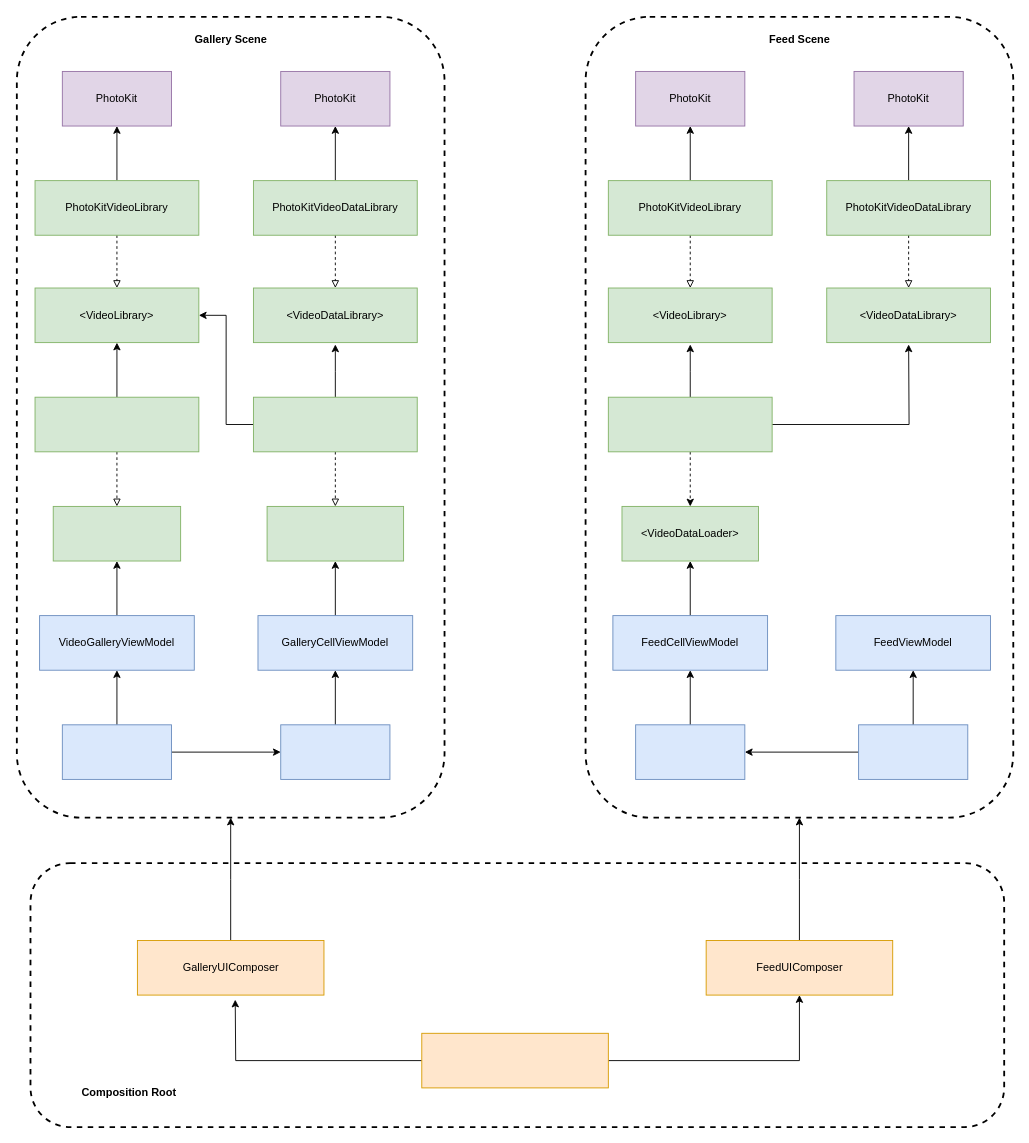
This 1029x1143 diagram has some shape labels left out. Each missing label, with the box of its shape:
<ThumbnailDataLoader>: (266, 506, 404, 561)
<VideoGalleryLoader>: (52, 506, 181, 561)
FeedCell: (635, 724, 745, 779)
FeedView: (858, 724, 968, 779)
GalleryCell: (280, 724, 390, 779)
GalleryView: (61, 724, 172, 779)
LocalThumbnailDataLoader: (253, 396, 417, 452)
LocalVideoDataLoader: (607, 396, 772, 452)
LocalVideoGalleryLoader: (34, 396, 199, 452)
Main: (421, 1032, 608, 1088)
